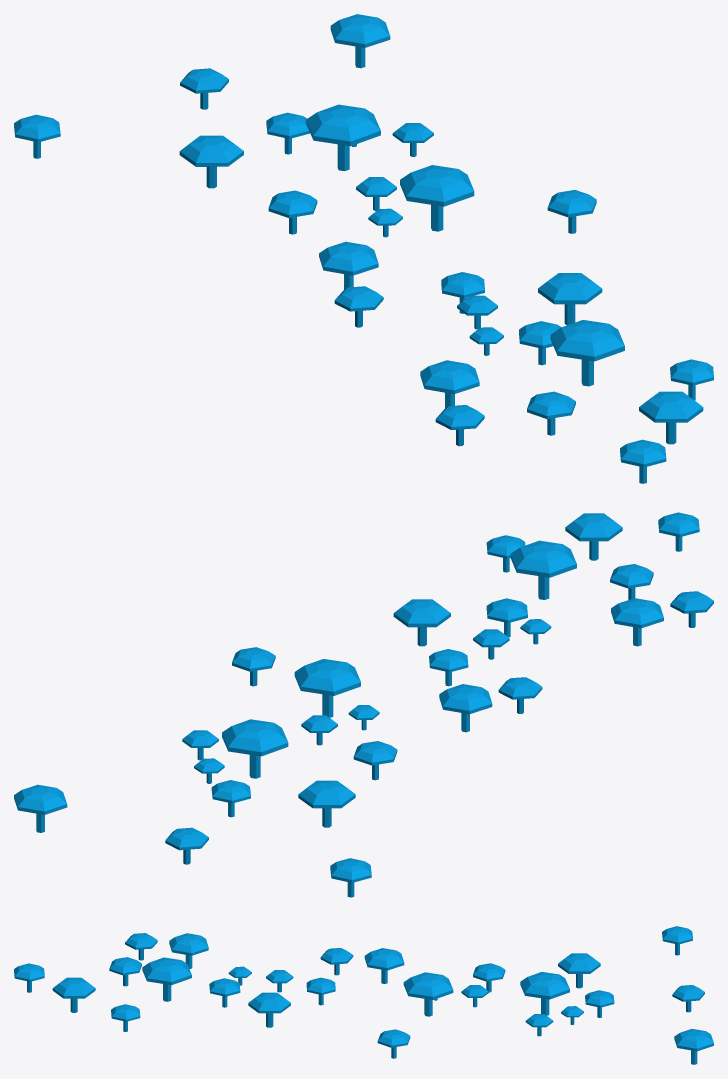
Rendered from Garden_GlowShroom05.fbx.
The picture shows the model from 3 angles, top to bottom: view 1: azimuth 30°, elevation 25°; view 2: azimuth 150°, elevation 25°; view 3: azimuth 270°, elevation 25°; orthographic projection. The views are drawn at different scales.
Visible parts, largest first — view 1: Cylinder.183; view 2: Cylinder.183; view 3: Cylinder.183.
Boxes of the visible parts, x1,y1,x2,y2 form: Cylinder.183: (14,14,713,483); Cylinder.183: (14,512,713,897); Cylinder.183: (14,926,713,1064).
Size of the model in its own units: 71.1 by 12 by 168.
